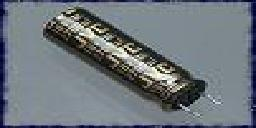Electrolytic-Capacitor: (39, 4, 227, 122)
